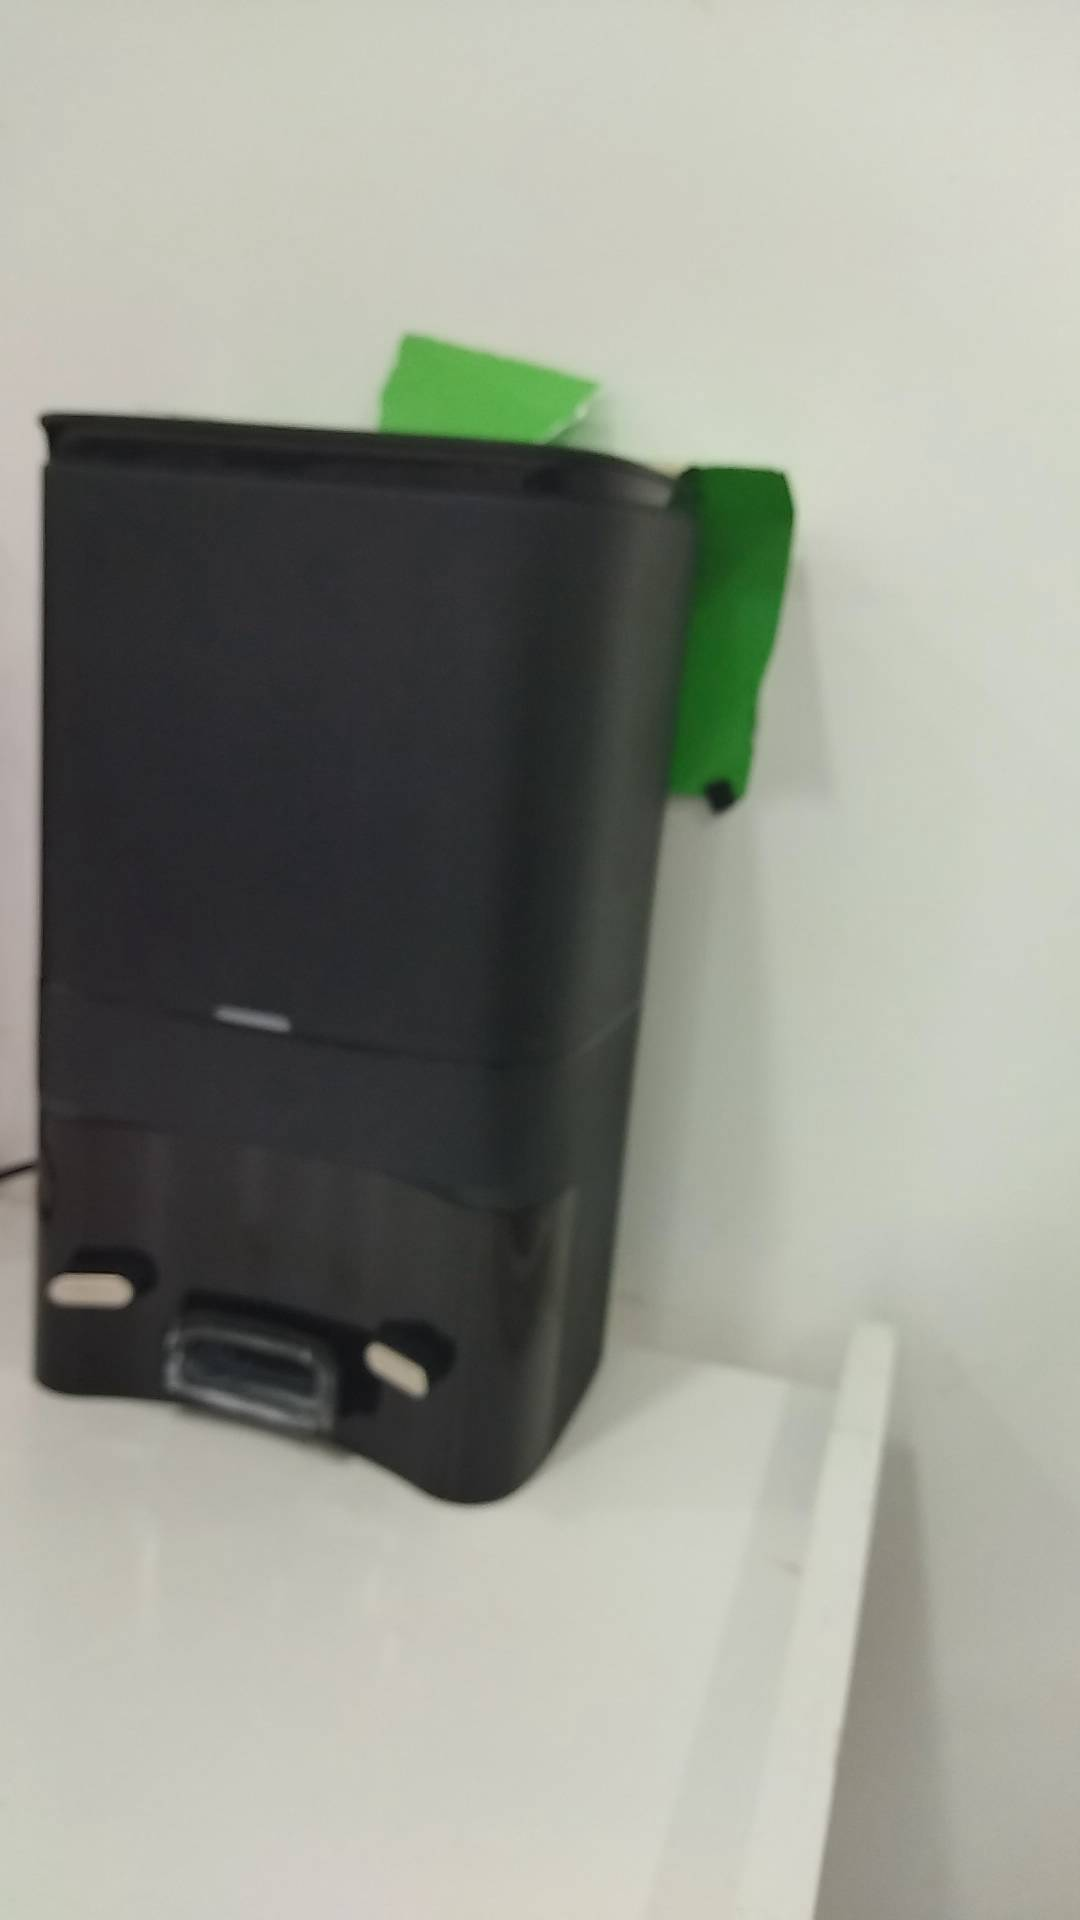dust collecting barrel: (33, 407, 700, 1511)
